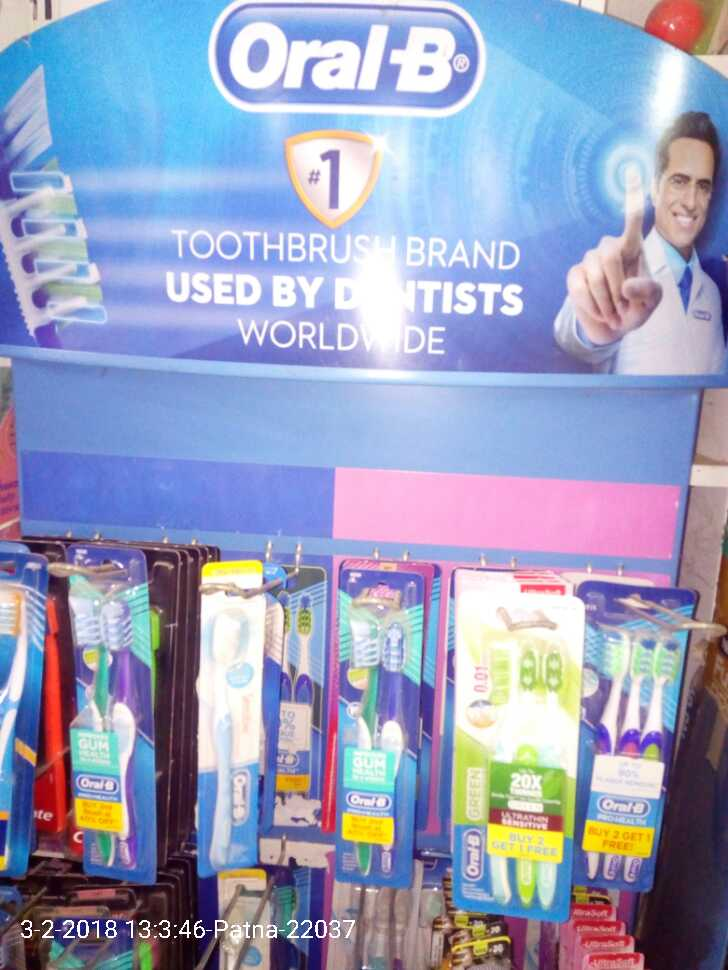oralb: (464, 605, 573, 902), (63, 560, 152, 875), (336, 579, 414, 882), (181, 580, 262, 863), (590, 605, 664, 893), (1, 559, 59, 875)
